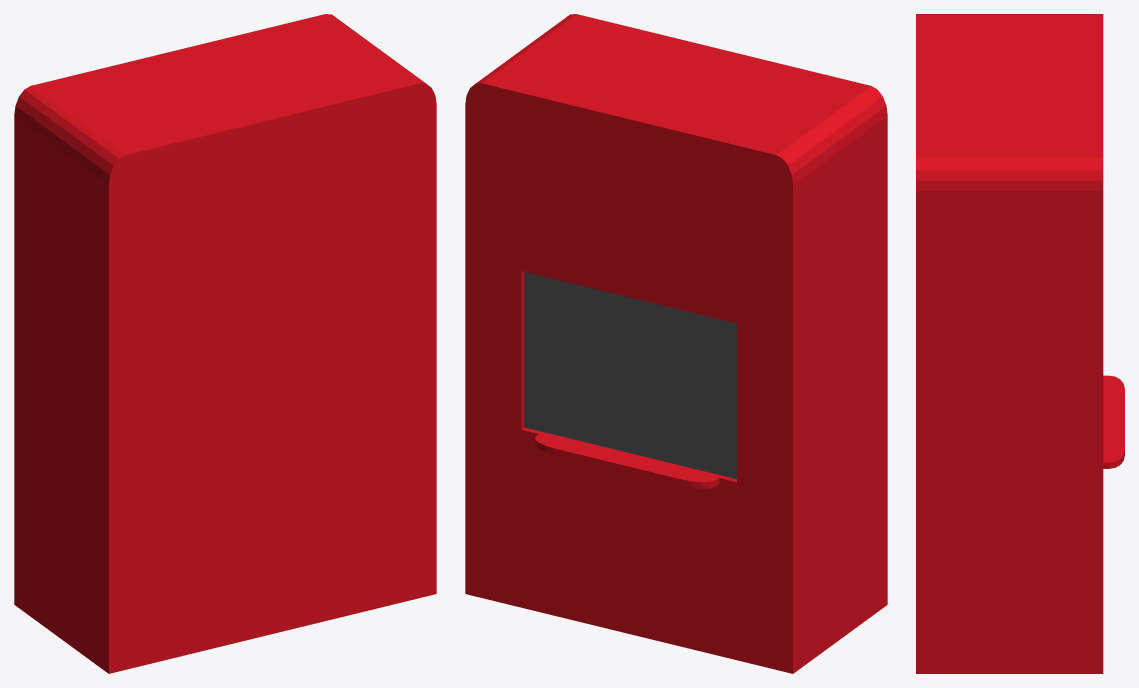
The model's file is Distributeur.fbx.
3 views of the same model, side by side, from view 1: azimuth 30°, elevation 25°; view 2: azimuth 150°, elevation 25°; view 3: azimuth 270°, elevation 25° (orthographic).
Visible parts, largest first — view 1: distributeur; view 2: distributeur, volet; view 3: distributeur.
Part boxes in pixels (left/top/right/bottom): distributeur: left=14, top=14, right=436, bottom=673; distributeur: left=465, top=14, right=887, bottom=673; volet: left=524, top=272, right=736, bottom=479; distributeur: left=916, top=14, right=1124, bottom=673.
Bounding box in the file's own units: 400 × 600 × 223.
